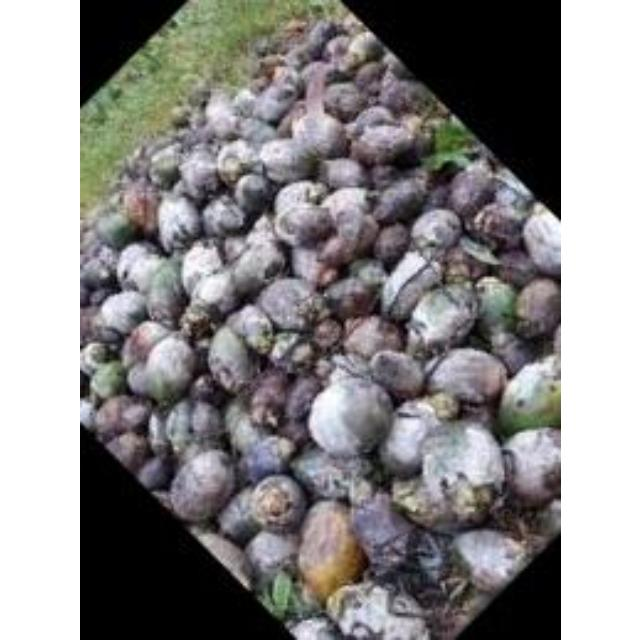damaged: (404, 421, 506, 523), (294, 498, 362, 600), (306, 384, 392, 454), (404, 285, 478, 353), (167, 449, 235, 521), (451, 526, 524, 592), (496, 359, 558, 436), (498, 429, 560, 505), (427, 346, 505, 406), (378, 403, 437, 473), (314, 210, 378, 270), (290, 447, 360, 501), (140, 336, 197, 402), (384, 259, 444, 321), (246, 473, 306, 531), (257, 276, 315, 328), (512, 278, 560, 338), (351, 122, 417, 164), (288, 110, 344, 158), (341, 316, 402, 360), (154, 194, 200, 252), (258, 137, 316, 183), (243, 530, 295, 580), (370, 349, 424, 397), (94, 394, 150, 440), (472, 277, 518, 333), (521, 208, 559, 274), (230, 244, 282, 292), (240, 436, 292, 482), (324, 274, 378, 318), (446, 167, 494, 216), (144, 262, 183, 322), (274, 203, 328, 245), (119, 246, 165, 294), (122, 320, 172, 364), (98, 291, 146, 335), (252, 79, 298, 123), (192, 269, 240, 311), (321, 186, 371, 226), (122, 182, 160, 234), (102, 431, 148, 473), (225, 304, 271, 346), (178, 152, 218, 196), (232, 173, 270, 213), (215, 142, 253, 182), (92, 212, 132, 248), (148, 148, 182, 186), (204, 92, 236, 130)
